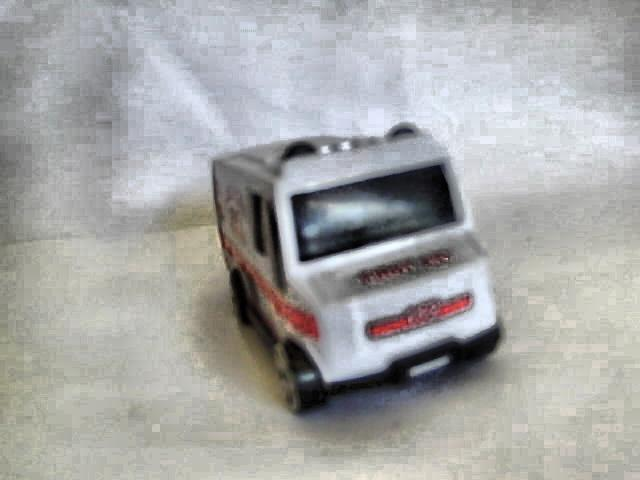ambulance: (210, 123, 501, 414)
